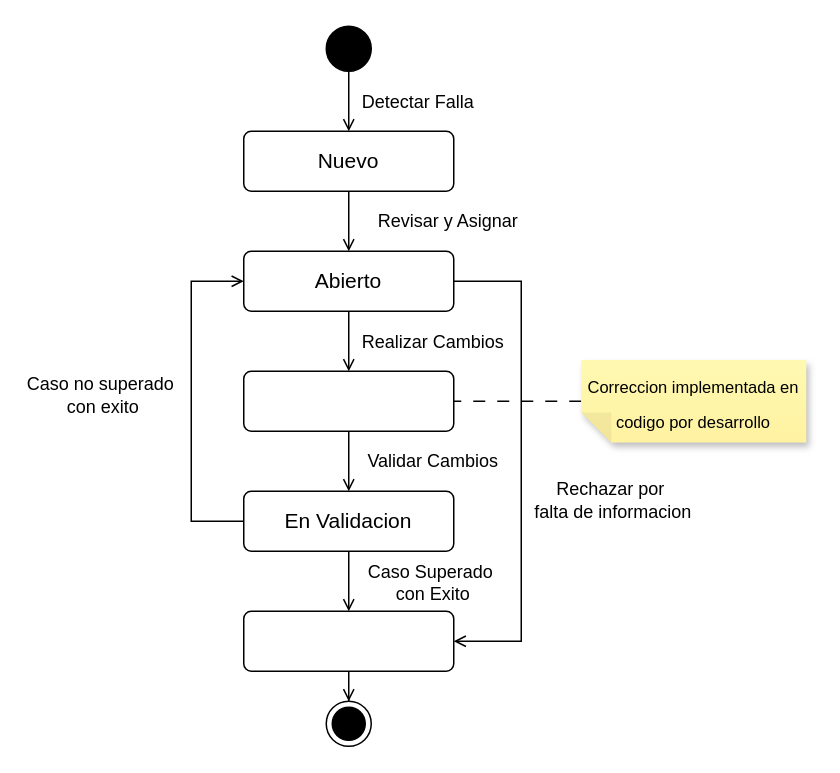
Some shapes in this 840 by 773 pixel diagram are drawn without their labels. Here are the shapes that lost their labels. From the top down, the centre of each, then its label:
point (348, 400): Atendido
point (348, 640): Cerrado
